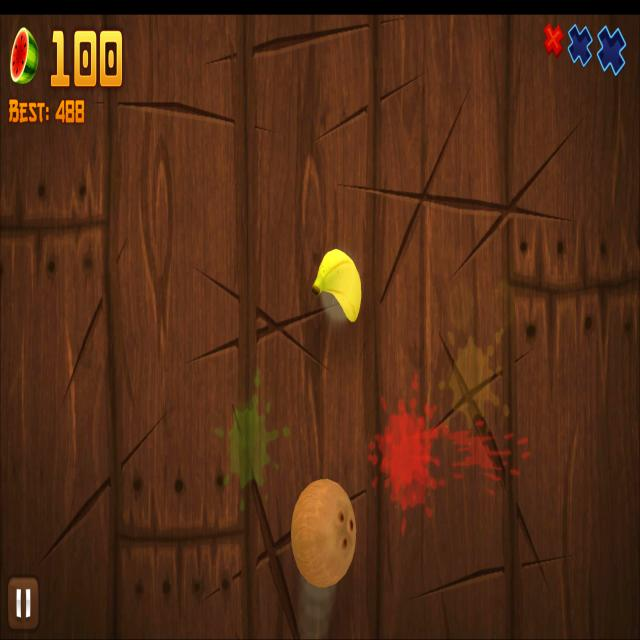fruit: (290, 476, 357, 590), (312, 248, 362, 324)
